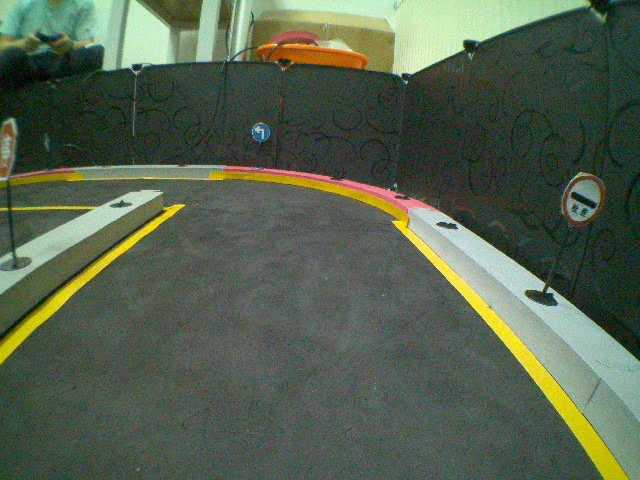Check: (560, 173, 608, 224)
turn: (251, 122, 270, 141)
